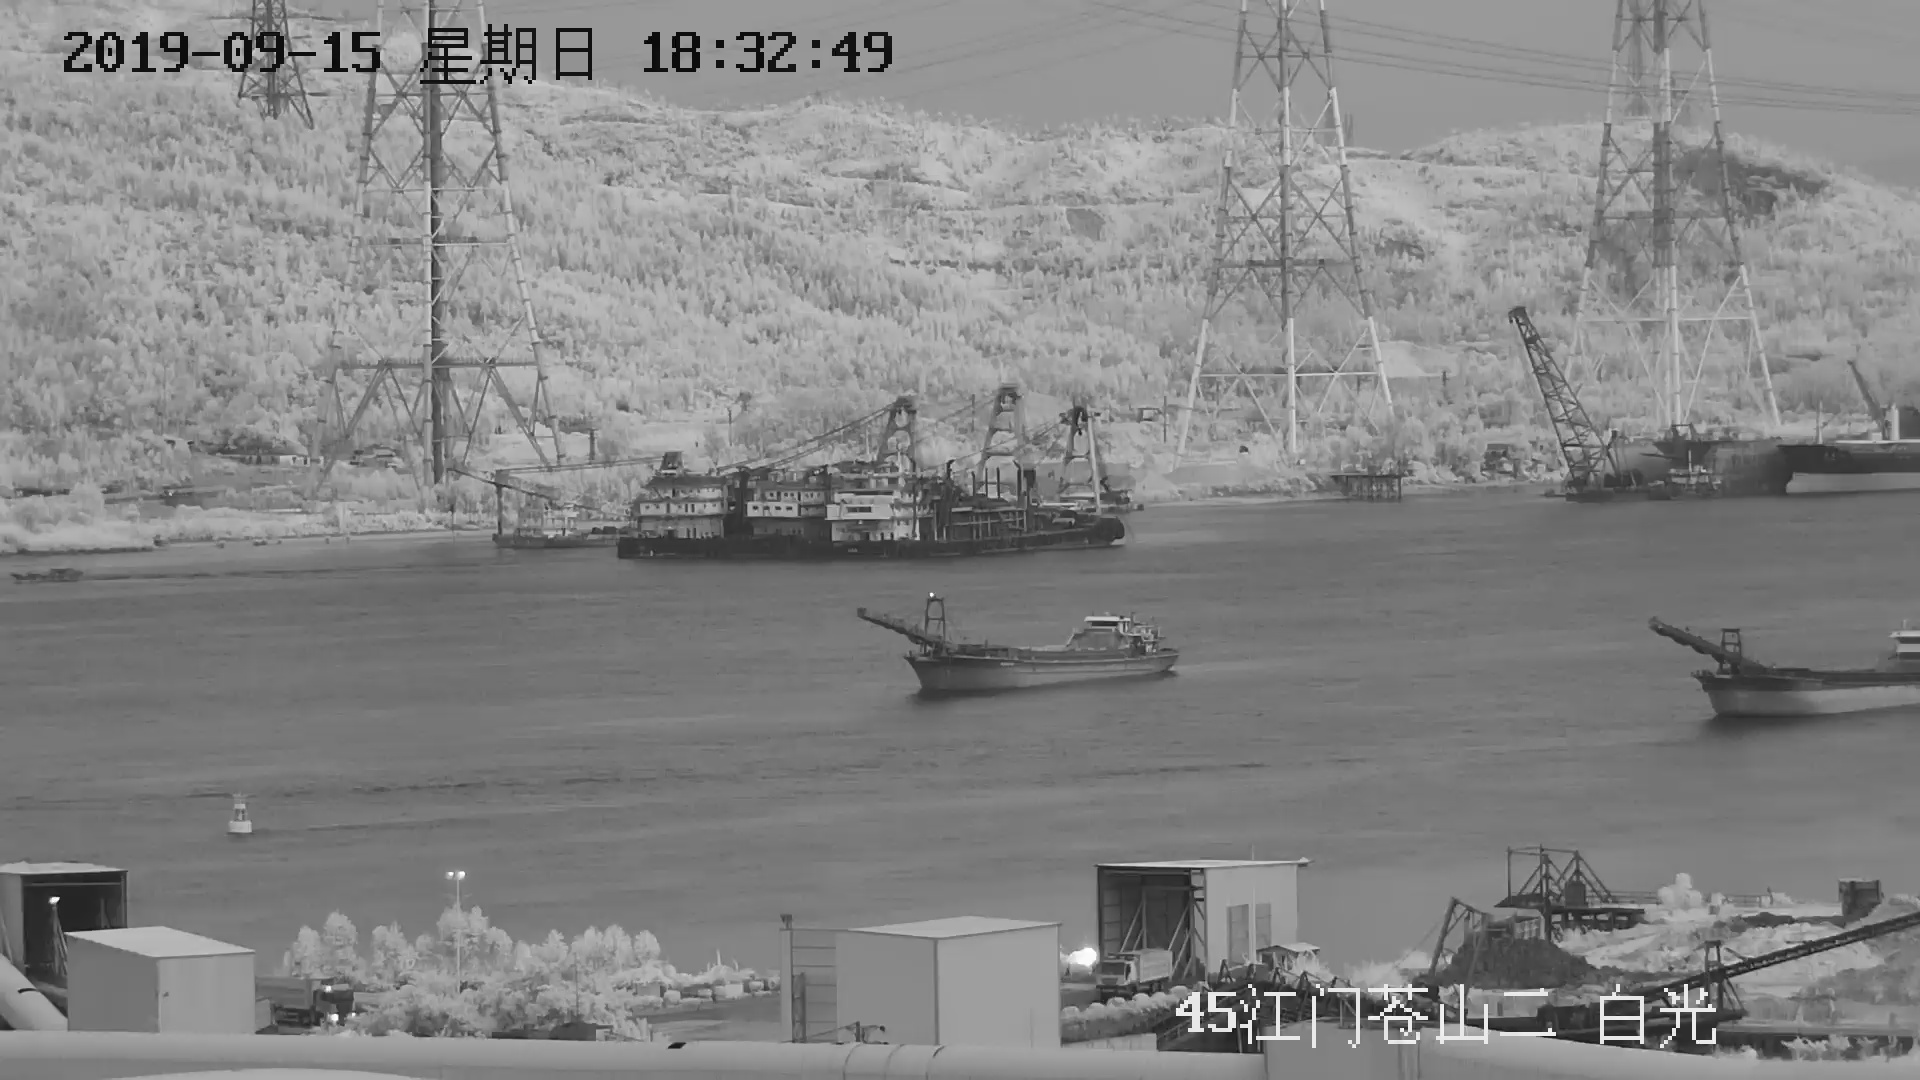ship: (1647, 615, 1920, 725), (865, 604, 1184, 694)
